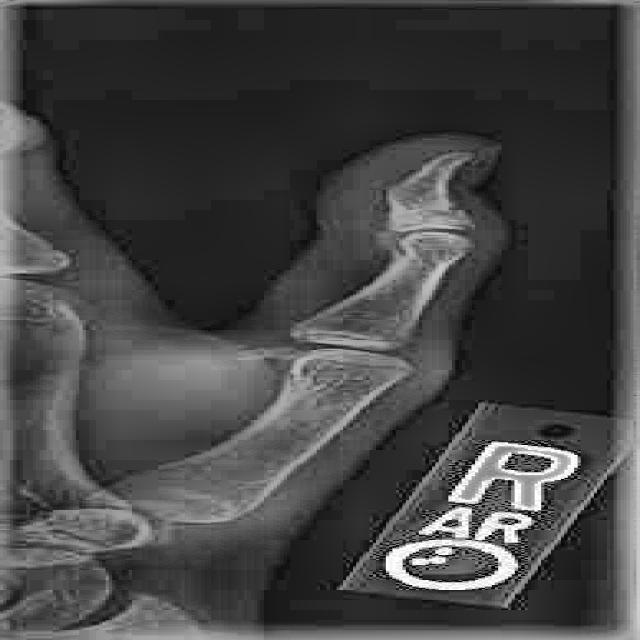fingers positive: (367, 199, 517, 233)
